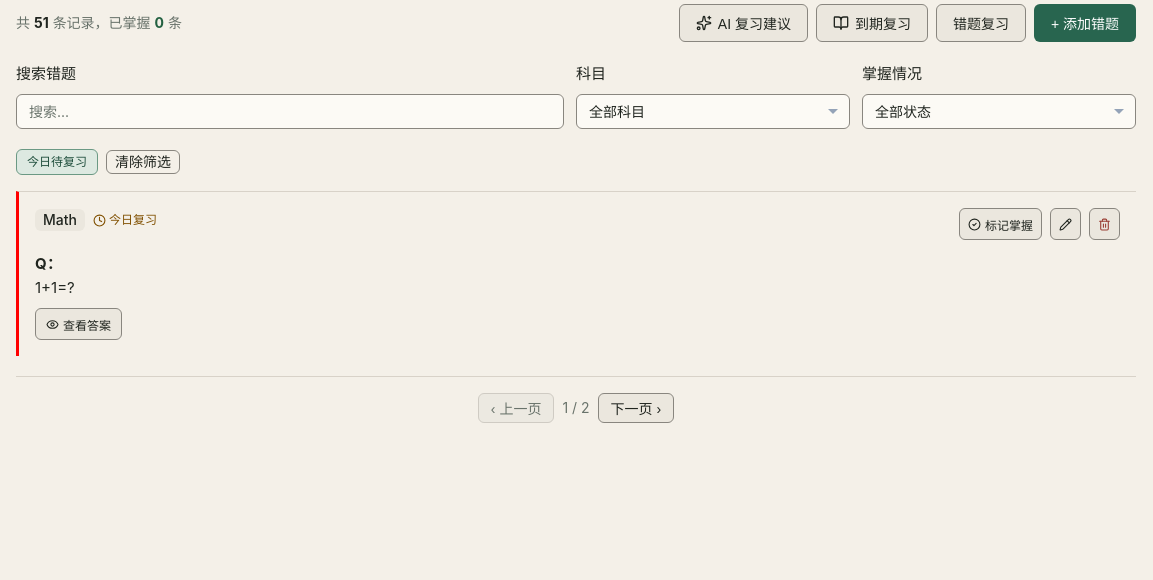
Test: MistakeBook Component › returns to the last valid page after 还行 removes the only result on page two
Expected: the text "1 / 2" is shown, [562, 398, 590, 418]
Select "Math" in the dropdown with test id "mistake-subject-filter" at (713, 112), box [576, 94, 850, 129]
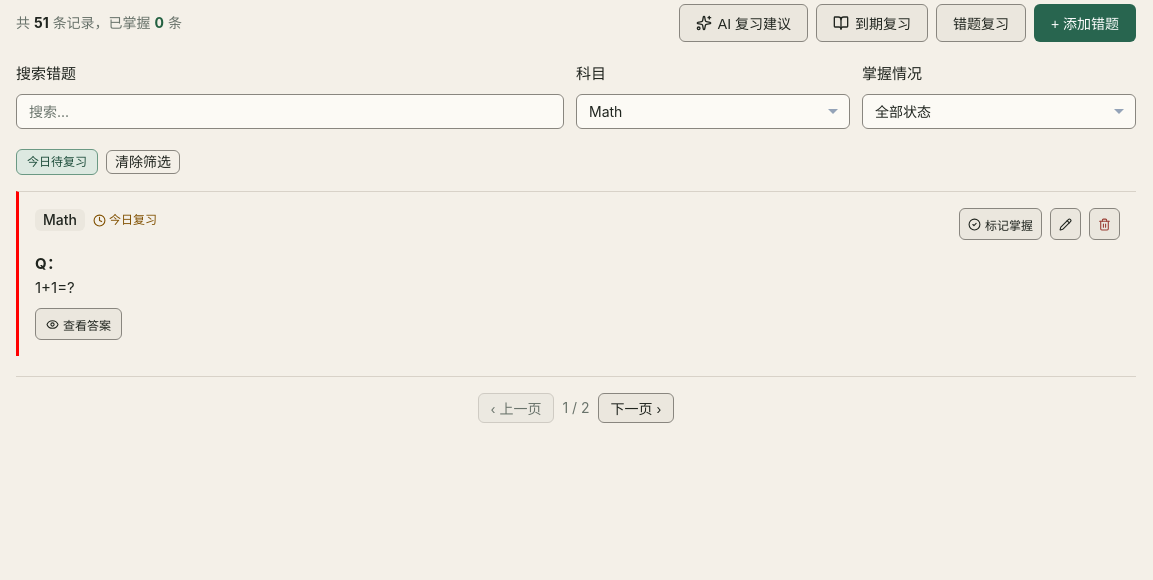
Click the button "下一页 ›".
click(636, 408)  # box [598, 393, 674, 423]
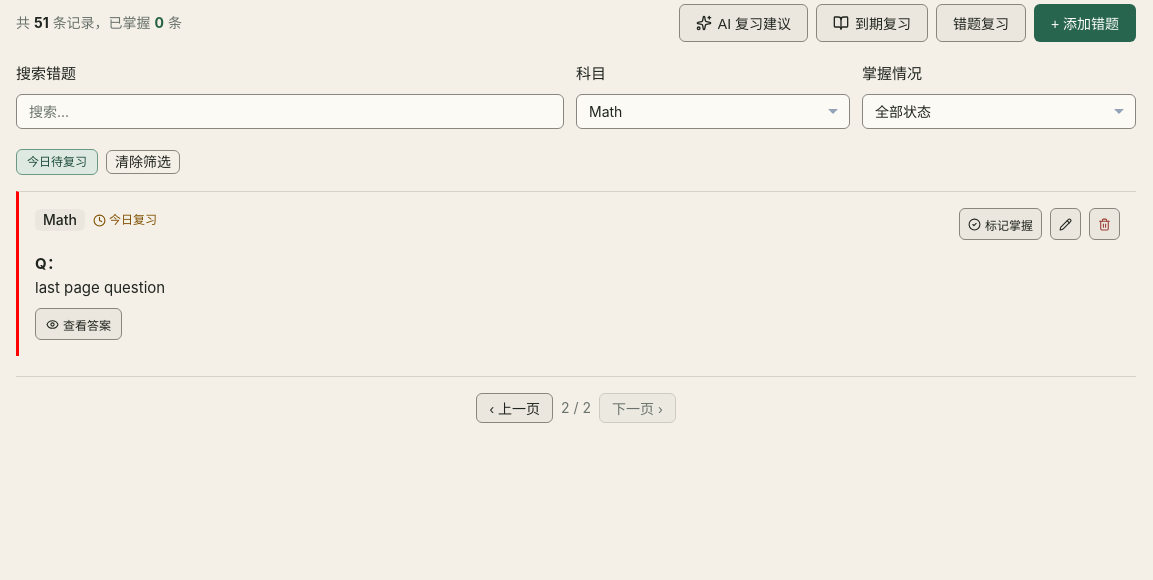
Now the text "last page question" is shown, box [35, 278, 165, 297]
Click the button with test id "mistake-toggle-answer-51".
click(78, 324)  # box [35, 308, 122, 340]
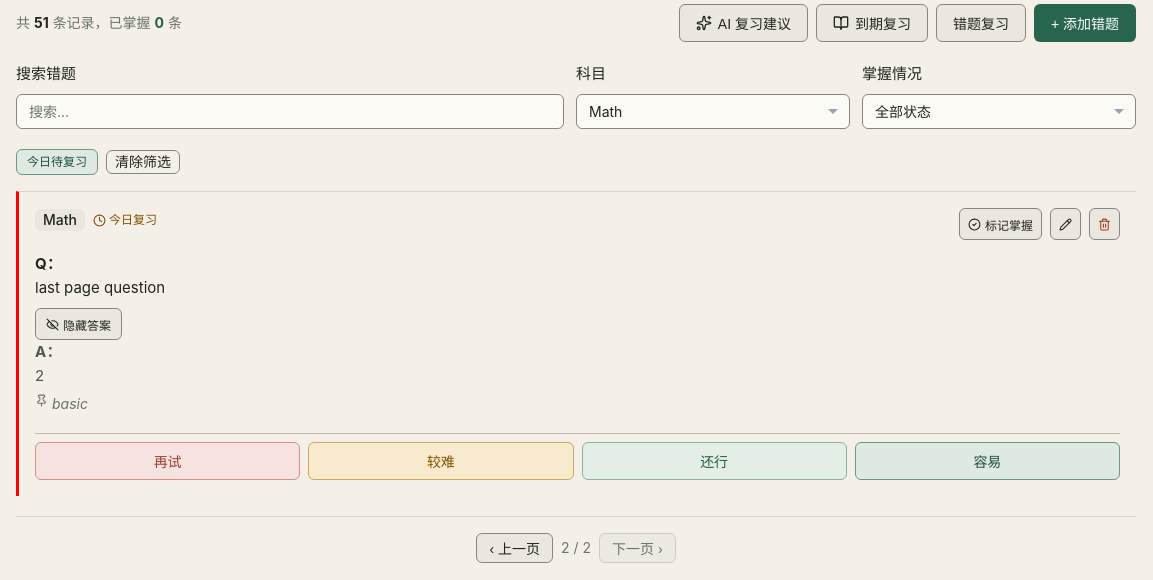
Click the button "还行".
click(714, 460)  # box [582, 442, 847, 480]
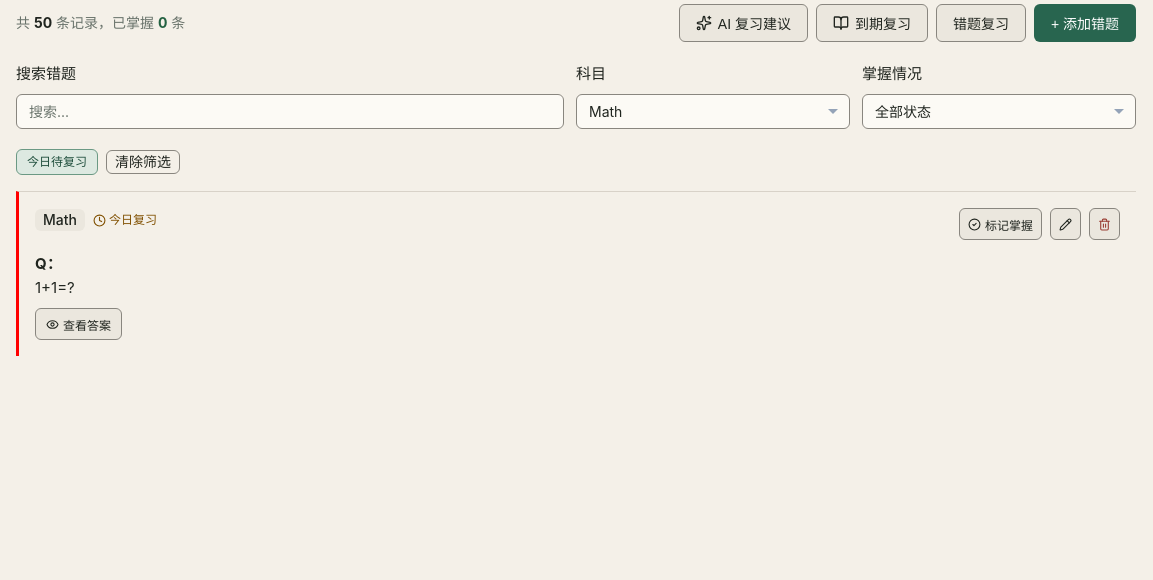
Now the text "1+1=?" is shown, box [35, 278, 75, 297]
Now the text "last page question" is gone
Now the navigation bar "错题分页" is gone
